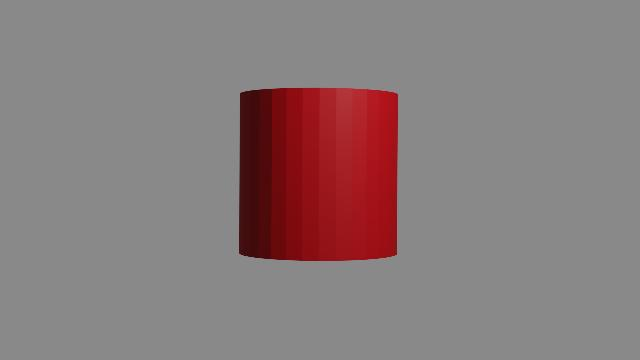Cylinder: (230, 81, 416, 267)
